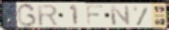1: (68, 4, 81, 26)
7: (132, 4, 151, 26)
F: (86, 4, 105, 27)
G: (17, 3, 38, 27)
N: (108, 4, 132, 26)
R: (37, 4, 59, 26)
